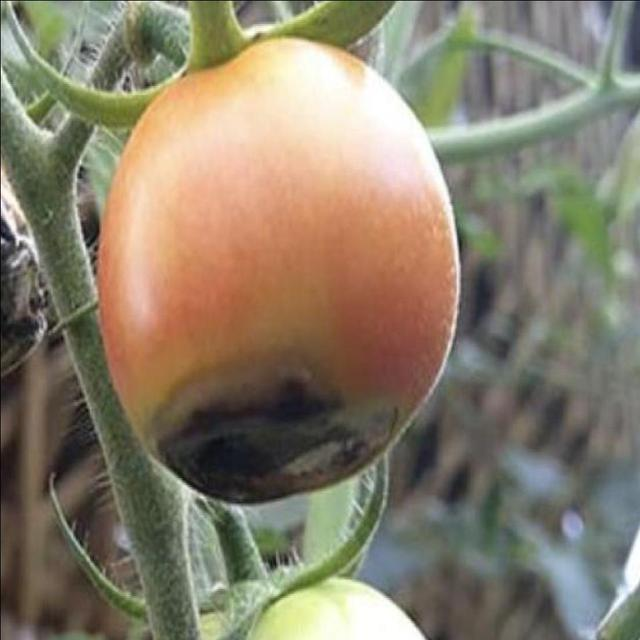Blossom End Rot Fruit: (87, 234, 257, 336)
